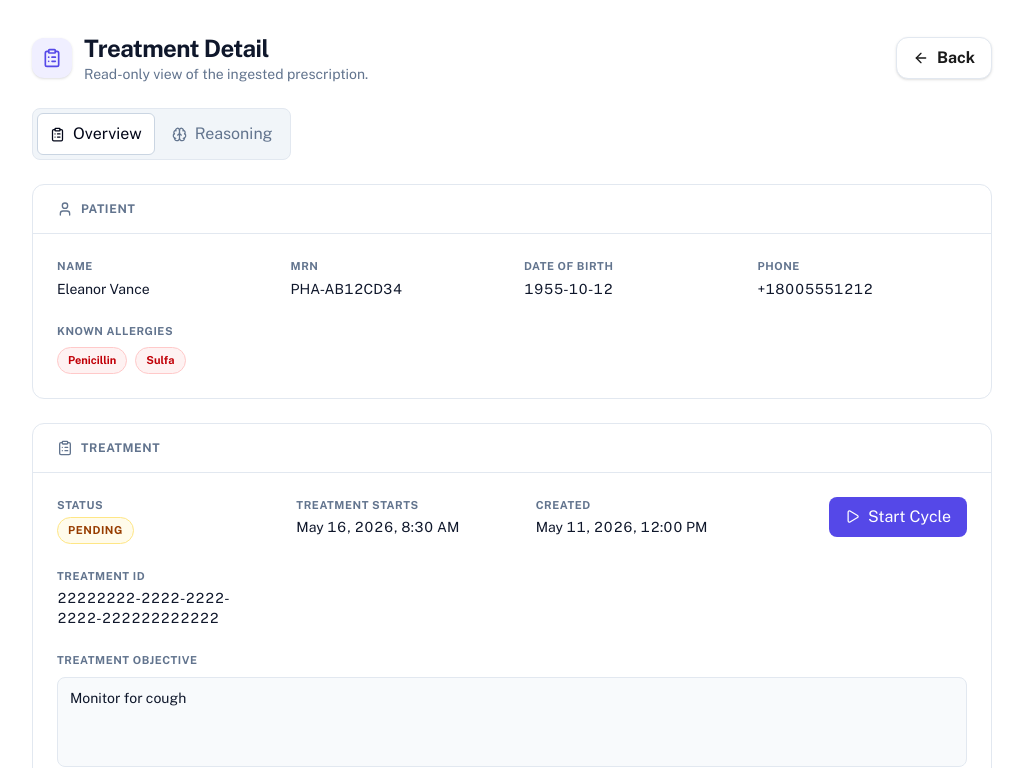
TreatmentDetailPage › lets the pharmacist start the treatment cycle
Check: the text "Eleanor Vance" is shown, box [57, 280, 150, 296]
Click the button "Start Cycle" at (898, 516), box [829, 496, 967, 536]
(page scrolled)
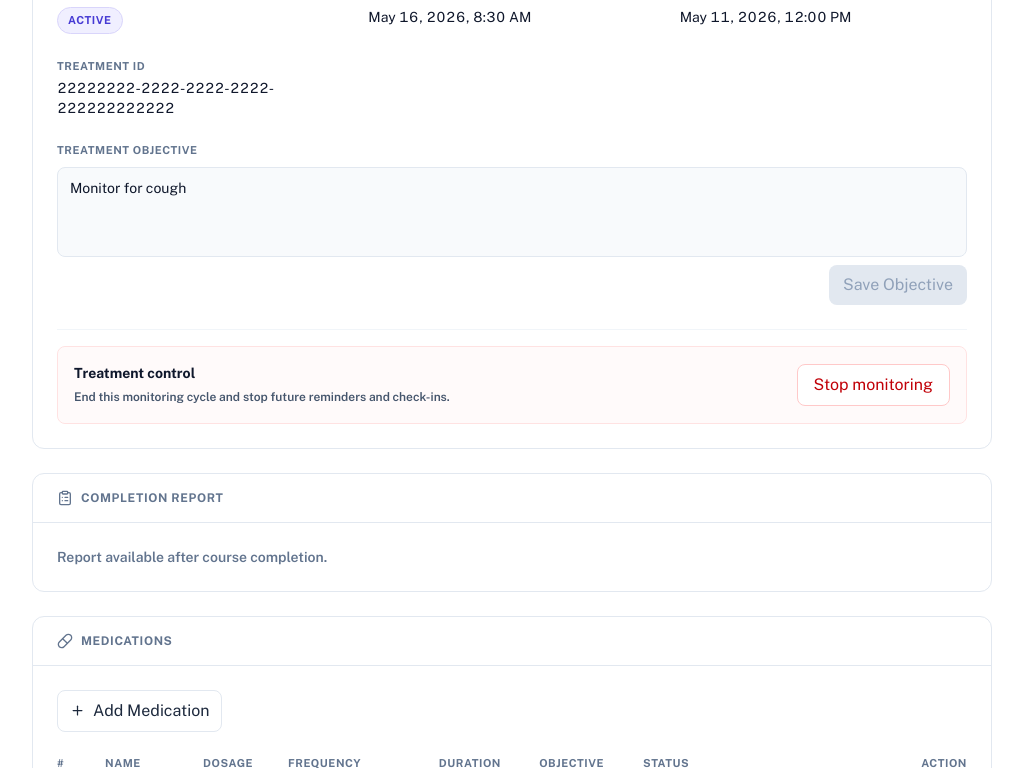
Check: the button "Stop monitoring" is shown, box [797, 364, 950, 406]
Check: the button "Start Cycle" is gone
